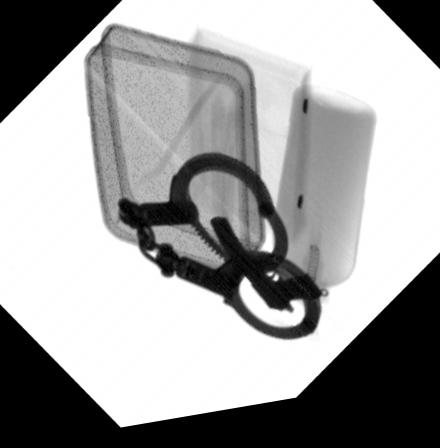Gun: (208, 220, 322, 326)
HandCuffs: (113, 156, 325, 351)
